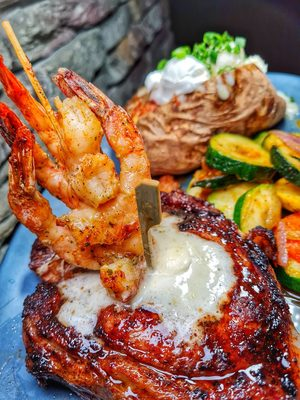sandwich: (1, 9, 300, 399)
